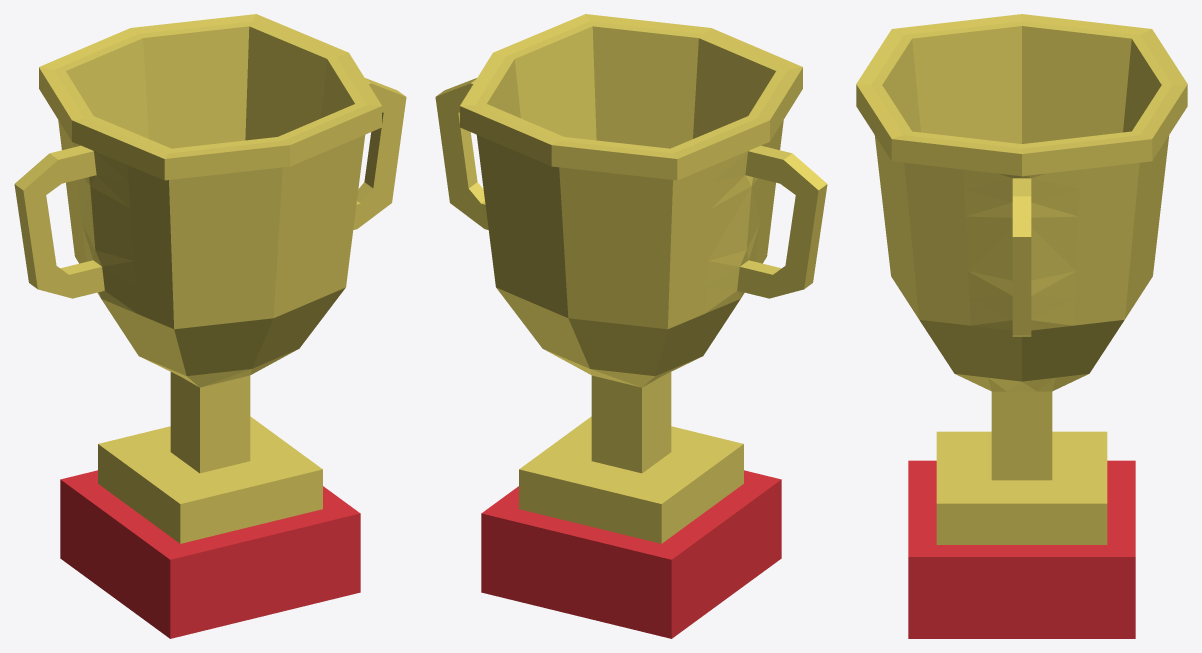
Rendered from Cup.fbx.
3 views of the same model, side by side, from view 1: azimuth 30°, elevation 25°; view 2: azimuth 150°, elevation 25°; view 3: azimuth 270°, elevation 25° (orthographic). The views are drawn at different scales.
Visible parts, largest first — view 1: Куб.029; view 2: Куб.029; view 3: Куб.029.
Part boxes in pixels (x1=…): Куб.029: x1=14, y1=14, x2=406, y2=638; Куб.029: x1=435, y1=14, x2=827, y2=638; Куб.029: x1=856, y1=14, x2=1187, y2=638.
Size of the model in its own units: 15.31 by 18.67 by 11.07.
